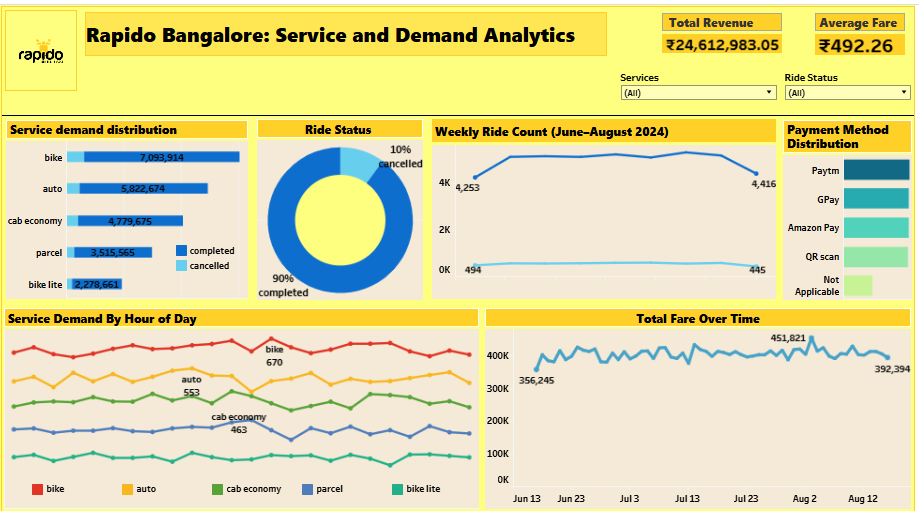

What the dashboard file says about the page in this screenshot:
{"tool":"tableau","page":{"name":"Dashboard 1","canvas":[1000,1000],"units":"permille","ordinal":0},"visuals":[{"type":"image","param":"Image/Rapido Bike Taxi.png","box":[2.5,4.5,85.2,162.1]},{"type":"text","box":[89.4,7.6,577.1,101.5]},{"type":"blank","box":[666.4,7.6,300.8,101.5]},{"type":"worksheet","title":" Total Revenue","mark":"Automatic","box":[723,15.2,161.5,86.4]},{"type":"worksheet","title":"Average Fare ","mark":"Automatic","box":[891,15.2,100.8,83.3]},{"type":"filter","title":"Service demand distribution","param":"[federated.14s9uic0qad2vq11qwo8j0dyh6p2].[none:services:nk]","box":[677.9,127.3,172.1,86.4]},{"type":"filter","title":"Service demand distribution","param":"[federated.14s9uic0qad2vq11qwo8j0dyh6p2].[none:ride_status:nk]","box":[857.4,127.3,139.3,84.9]},{"type":"blank","box":[2.5,166.7,85.2,692.4]},{"type":"worksheet","title":"Ride Status ","mark":"Pie","rows":["Calculation_954481666245550083","Calculation_954481666245578757"],"box":[280.3,224.2,182,356.1]},{"type":"worksheet","title":"Ride Over TIme","mark":"Line","rows":["ride_id"],"cols":["Calculation_954481666433507339"],"box":[472.1,224.2,375.4,354.6]},{"type":"worksheet","title":"Service demand distribution","mark":"Bar","rows":["services"],"cols":["ride_id"],"box":[6.6,225.8,263.9,354.6]},{"type":"worksheet","title":"Payment Method Distribution","mark":"Bar","rows":["payment_method"],"cols":["ride_id"],"box":[855.7,225.8,141,354.6]},{"type":"legend","title":"Service demand distribution","param":"[federated.14s9uic0qad2vq11qwo8j0dyh6p2].[none:ride_status:nk]","box":[189.3,439.4,91,87.9]},{"type":"worksheet","title":"Service Demand By Hour of Day ","mark":"Line","rows":["ride_id"],"cols":["datetime"],"box":[4.1,595.5,519.7,395.4]},{"type":"worksheet","title":"Total Fare Over Time","mark":"Line","rows":["total_fare"],"cols":["datetime"],"box":[530.3,595.5,464.8,395.4]},{"type":"blank","box":[2.5,859.1,85.2,134.8]}]}

Visuals, with their boxes on the dashboard's canvas, which has no fixed pixel size, in thousandths of its width and height (x1, y1, x2, y2). These are canvas units, not pixel positions in the 919x511 screenshot, which may show the page scaled, cropped or inside an application window:
image: <box>2,4,88,167</box>
text: <box>89,8,666,109</box>
blank: <box>666,8,967,109</box>
" Total Revenue" worksheet: <box>723,15,884,102</box>
"Average Fare " worksheet: <box>891,15,992,98</box>
"Service demand distribution" filter: <box>678,127,850,214</box>
"Service demand distribution" filter: <box>857,127,997,212</box>
blank: <box>2,167,88,859</box>
"Ride Status " worksheet (Pie marks): <box>280,224,462,580</box>
"Ride Over TIme" worksheet (Line marks): <box>472,224,848,579</box>
"Service demand distribution" worksheet (Bar marks): <box>7,226,270,580</box>
"Payment Method Distribution" worksheet (Bar marks): <box>856,226,997,580</box>
"Service demand distribution" legend: <box>189,439,280,527</box>
"Service Demand By Hour of Day " worksheet (Line marks): <box>4,596,524,991</box>
"Total Fare Over Time" worksheet (Line marks): <box>530,596,995,991</box>
blank: <box>2,859,88,994</box>
